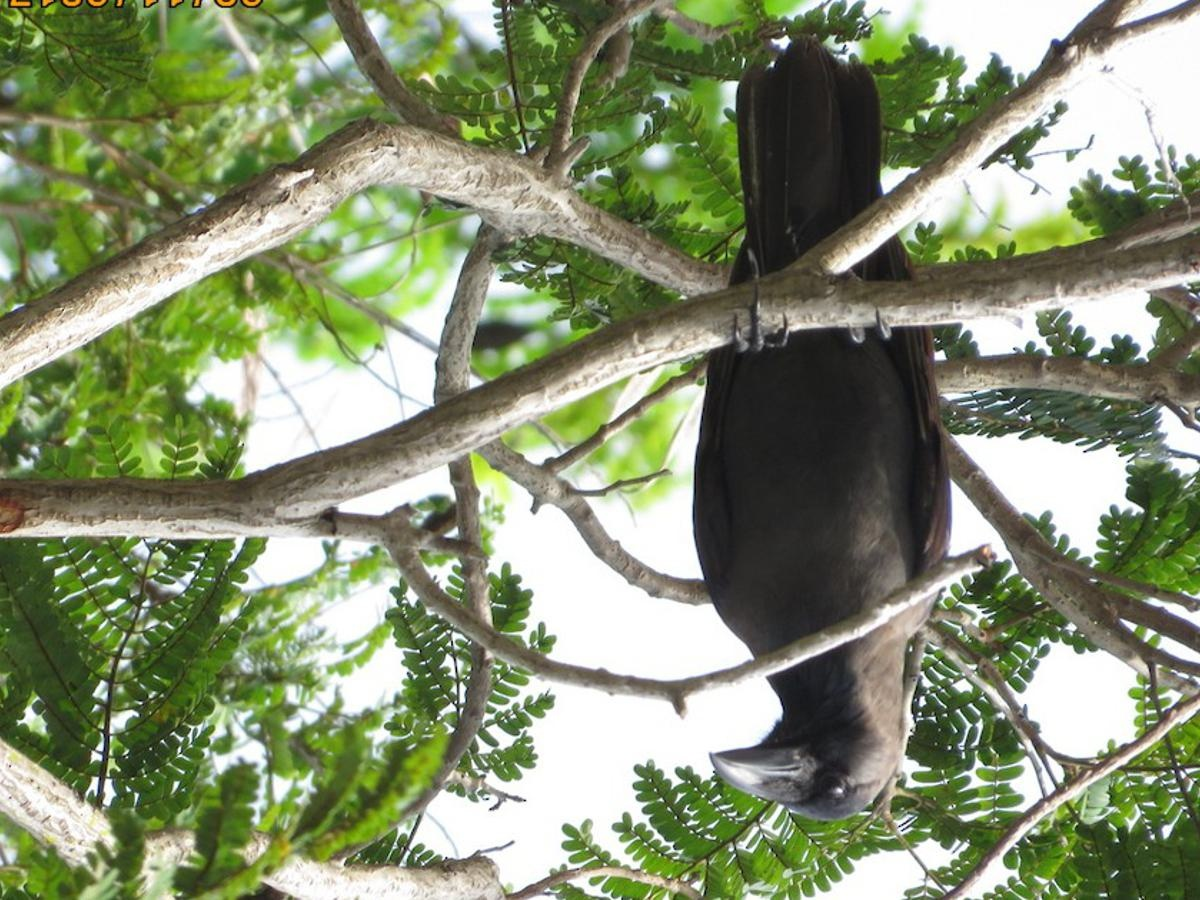crow: (662, 32, 1002, 843)
